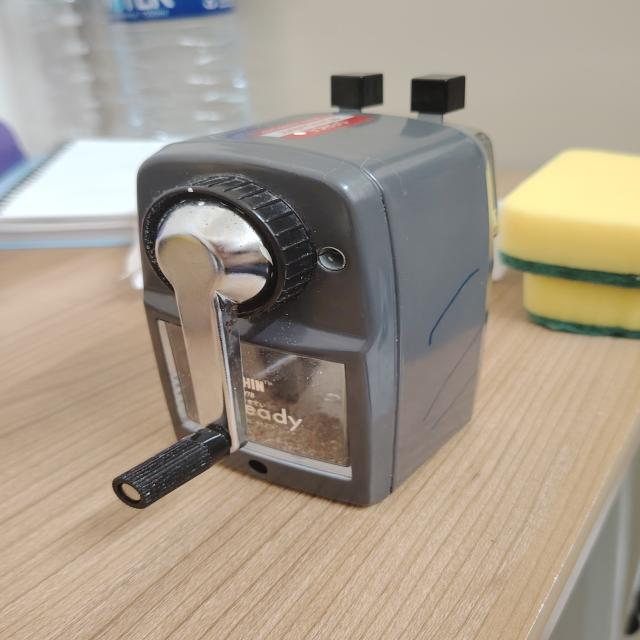sharpener: (113, 74, 496, 508)
